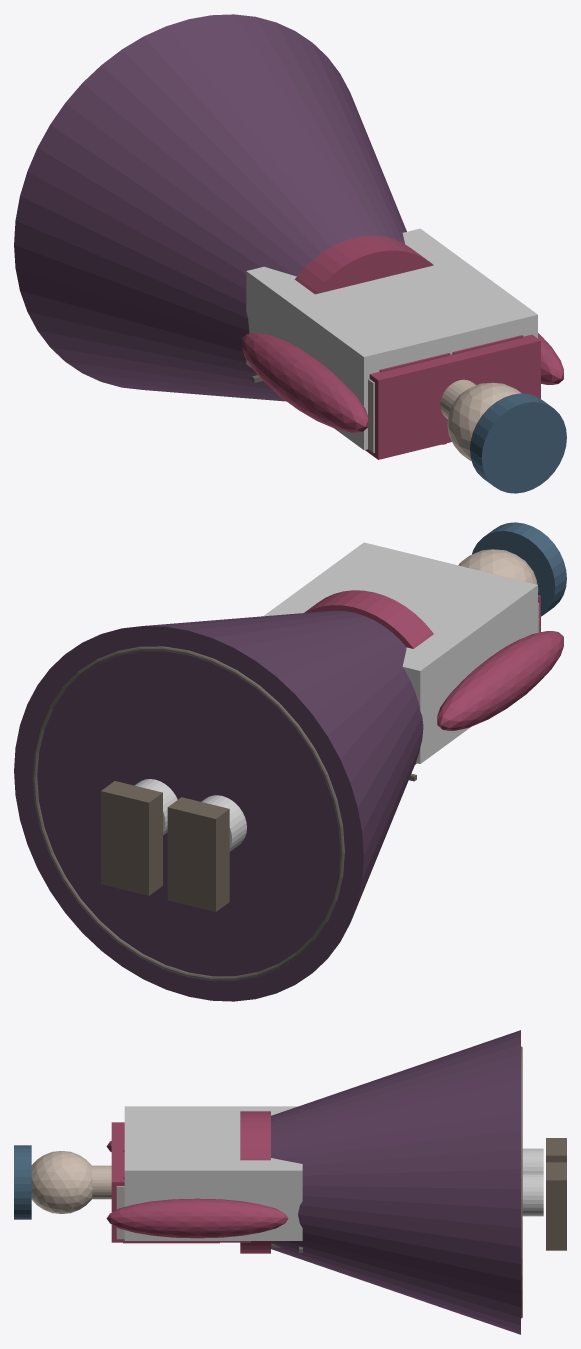
Rendered from MASTER_020_STAGE3_DETAIL.glb.
3 renders of one model, top to bottom at view 1: azimuth 30°, elevation 25°; view 2: azimuth 150°, elevation 25°; view 3: azimuth 270°, elevation 25°, orthographic. The views are drawn at different scales.
Visible parts, largest first — view 1: slot_lower_main__fund_i_gjatë, slot_outerwear__xhokë/xhulia, slot_upper_inner__këmishë, slot_headwear__mbulesë_koke, slot_upper_inner_sleeve_L, slot_waist__brez, mannequin_head, slot_upper_inner_sleeve_R; view 2: slot_lower_main__fund_i_gjatë, slot_outerwear__xhokë/xhulia, slot_footwear__opinga_L, slot_footwear__opinga_R, slot_upper_inner_sleeve_L, detail_skirt_hem, slot_headwear__mbulesë_koke, slot_waist__brez, mannequin_head, slot_legwear__çorape_L, slot_legwear__çorape_R; view 3: slot_lower_main__fund_i_gjatë, slot_outerwear__xhokë/xhulia, slot_upper_inner_sleeve_R, mannequin_head, slot_waist__brez, slot_footwear__opinga_R, slot_headwear__mbulesë_koke, slot_upper_inner__këmishë, slot_legwear__çorape_R, mannequin_neck, slot_legwear__çorape_L, detail_skirt_hem (+1 smaller).
Part boxes in pixels (x1,y1,x2,y2): slot_lower_main__fund_i_gjatë: [14, 14, 406, 401]; slot_outerwear__xhokë/xhulia: [246, 228, 537, 450]; slot_upper_inner__këmishë: [365, 334, 540, 459]; slot_headwear__mbulesë_koke: [470, 393, 566, 493]; slot_upper_inner_sleeve_L: [242, 332, 368, 432]; slot_waist__brez: [295, 235, 433, 294]; mannequin_head: [447, 382, 521, 460]; slot_upper_inner_sleeve_R: [538, 333, 563, 384]; slot_lower_main__fund_i_gjatë: [14, 610, 423, 1001]; slot_outerwear__xhokë/xhulia: [263, 542, 537, 763]; slot_footwear__opinga_L: [167, 797, 229, 911]; slot_footwear__opinga_R: [101, 781, 162, 895]; slot_upper_inner_sleeve_L: [437, 631, 563, 730]; detail_skirt_hem: [32, 646, 344, 981]; slot_headwear__mbulesë_koke: [472, 522, 566, 616]; slot_waist__brez: [304, 590, 433, 764]; mannequin_head: [458, 549, 538, 591]; slot_legwear__çorape_L: [201, 795, 246, 851]; slot_legwear__çorape_R: [134, 779, 177, 835]; slot_lower_main__fund_i_gjatë: [271, 1030, 520, 1334]; slot_outerwear__xhokë/xhulia: [124, 1106, 302, 1240]; slot_upper_inner_sleeve_R: [106, 1198, 288, 1238]; mannequin_head: [31, 1151, 92, 1213]; slot_waist__brez: [240, 1111, 270, 1253]; slot_footwear__opinga_R: [546, 1162, 566, 1250]; slot_headwear__mbulesë_koke: [14, 1145, 31, 1219]; slot_upper_inner__këmishë: [111, 1122, 250, 1242]; slot_legwear__çorape_R: [522, 1173, 543, 1216]; mannequin_neck: [91, 1165, 111, 1199]; slot_legwear__çorape_L: [522, 1148, 543, 1172]; detail_skirt_hem: [521, 1046, 522, 1318].
Bounding box in the file's own units: 0.9435 × 0.9435 × 1.71.
